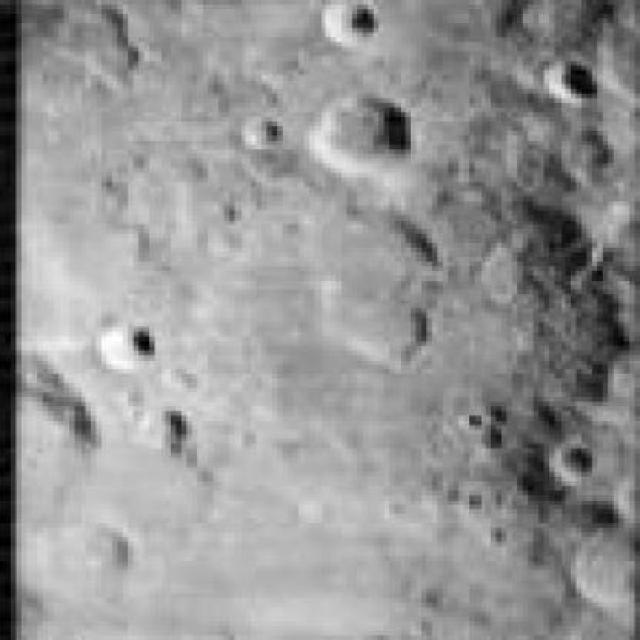crater: (317, 96, 408, 172)
